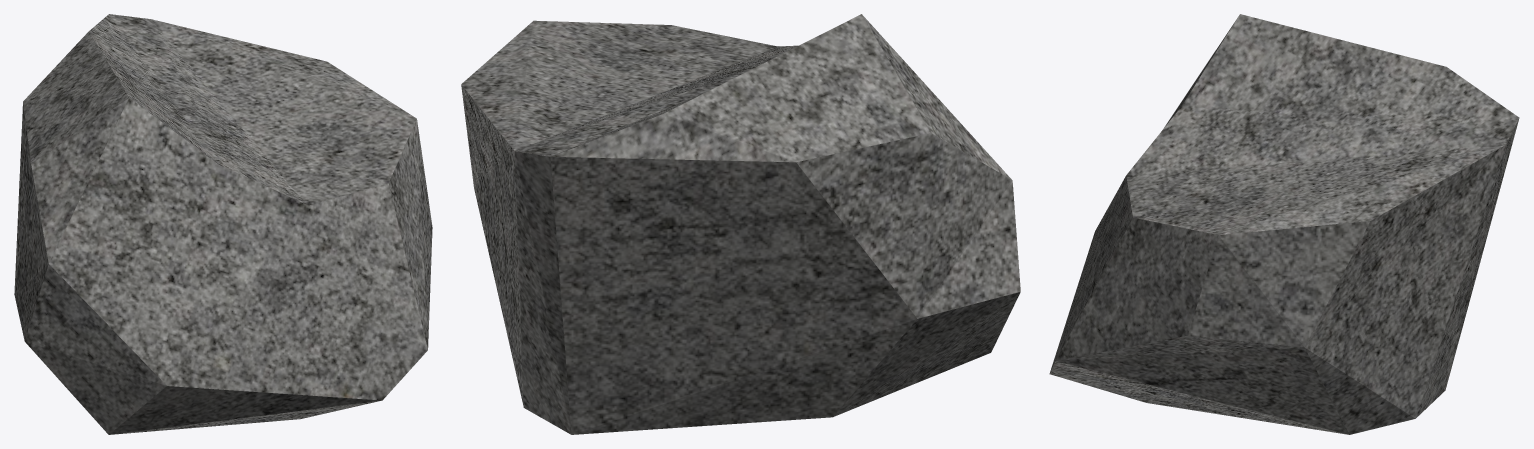
The model's file is roccia_piccola_11.fbx.
3 views of the same model, side by side, from view 1: azimuth 30°, elevation 25°; view 2: azimuth 150°, elevation 25°; view 3: azimuth 270°, elevation 25° (orthographic). The views are drawn at different scales.
Parts seen in each view (by area): view 1: roccia_piccola_11; view 2: roccia_piccola_11; view 3: roccia_piccola_11.
Part boxes in pixels (bbox=[...]): roccia_piccola_11: bbox=[14, 14, 432, 434]; roccia_piccola_11: bbox=[461, 14, 1020, 434]; roccia_piccola_11: bbox=[1049, 14, 1519, 434].
Bounding box in the file's own units: 21.72 × 16.51 × 21.57.
